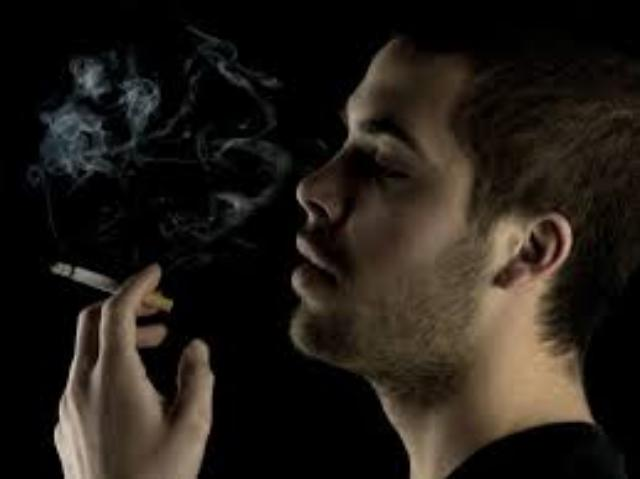Cigarette: (52, 263, 175, 313)
